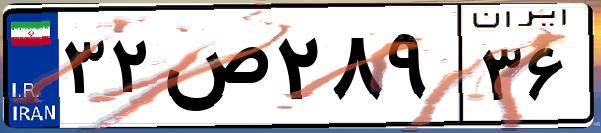2: (270, 28, 330, 110), (110, 28, 158, 98)
3: (57, 26, 110, 100), (475, 38, 525, 113)
6: (525, 38, 570, 115)
8: (330, 28, 385, 110)
9: (385, 28, 445, 110)
ص: (158, 20, 270, 120)
